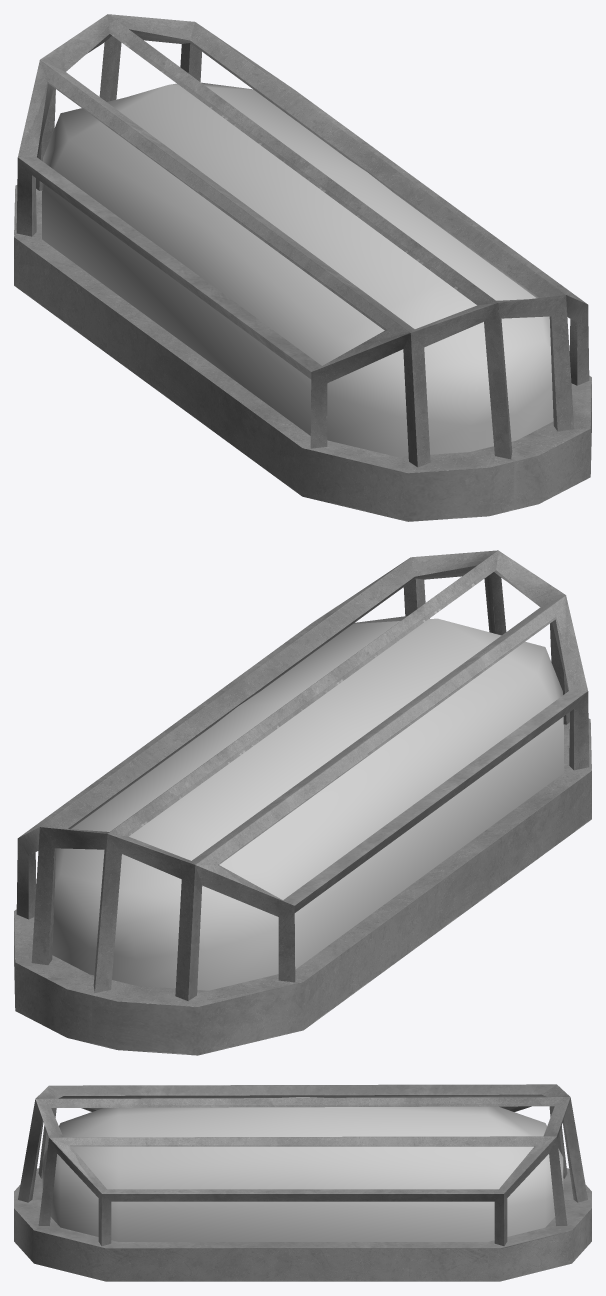
Rendered from SM_Emergency_Light.fbx.
3 renders of one model, top to bottom at view 1: azimuth 30°, elevation 25°; view 2: azimuth 150°, elevation 25°; view 3: azimuth 270°, elevation 25°, orthographic. The views are drawn at different scales.
Visible parts, largest first — view 1: Cube.006, Cube.001; view 2: Cube.006, Cube.001; view 3: Cube.006, Cube.001.
Boxes of the visible parts, left/top/right/bottom form: Cube.006: left=14, top=14, right=591, bottom=521; Cube.001: left=42, top=82, right=553, bottom=456; Cube.006: left=14, top=550, right=591, bottom=1055; Cube.001: left=52, top=616, right=563, bottom=990; Cube.006: left=14, top=1084, right=591, bottom=1281; Cube.001: left=42, top=1097, right=563, bottom=1241.
Bounding box in the file's own units: 62.54 × 40.98 × 158.
